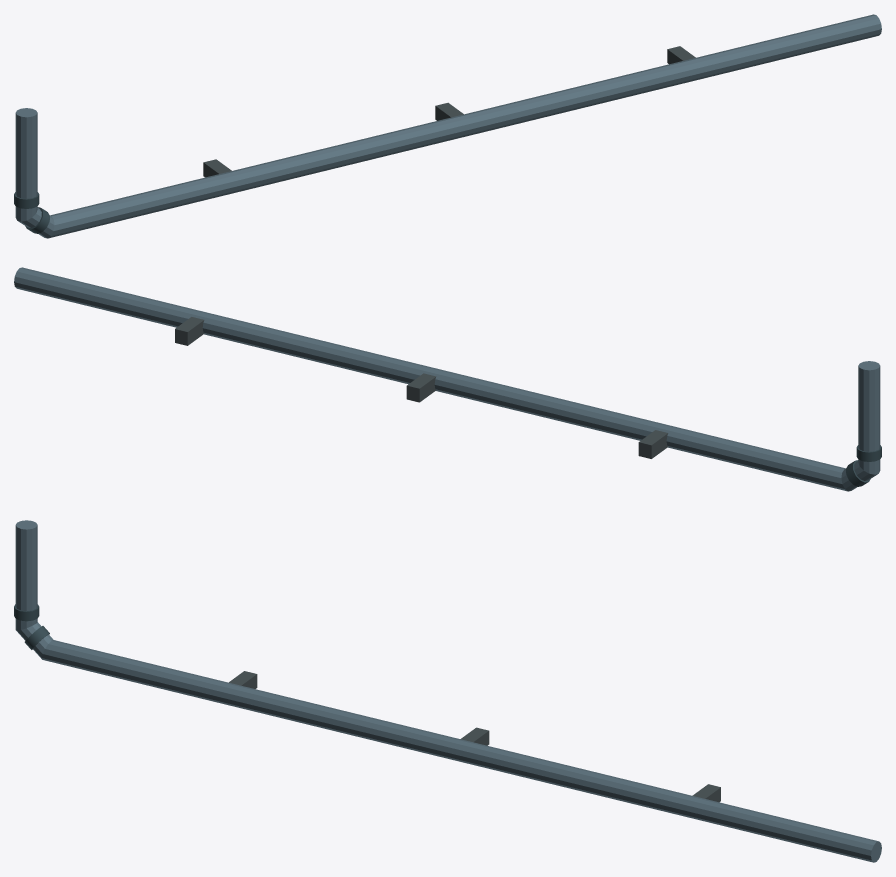
Rendered from L02_HighRearPipe.fbx.
3 renders of one model, top to bottom at view 1: azimuth 30°, elevation 25°; view 2: azimuth 150°, elevation 25°; view 3: azimuth 330°, elevation 25°, orthographic.
Parts seen in each view (by area): view 1: L02_HighRearPipe; view 2: L02_HighRearPipe; view 3: L02_HighRearPipe.
Part boxes in pixels (x1,y1,x2,y2): L02_HighRearPipe: (14, 14, 881, 238); L02_HighRearPipe: (14, 267, 881, 491); L02_HighRearPipe: (14, 520, 881, 862).
Bounding box in the file's own units: 7.22 × 1.04 × 0.3895.
